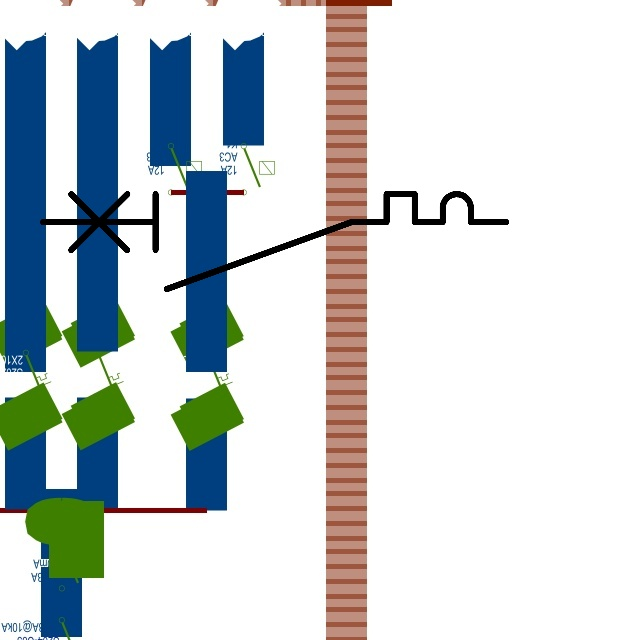interruptor_termomagnetico: (31, 182, 518, 301)
